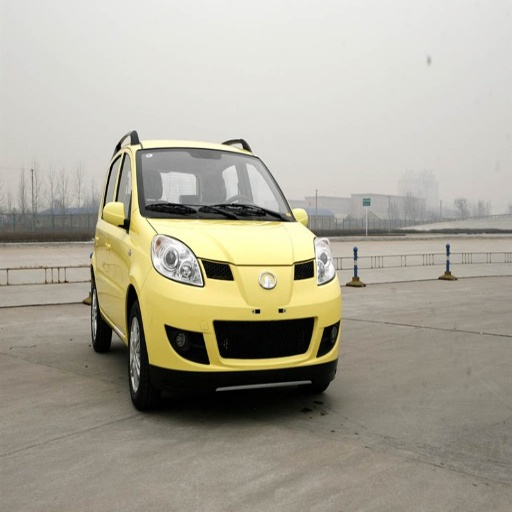front_bumper: (142, 257, 341, 386)
front_right_door: (103, 150, 139, 292)
front_right_light: (152, 236, 205, 285)
hood: (152, 219, 315, 264)
